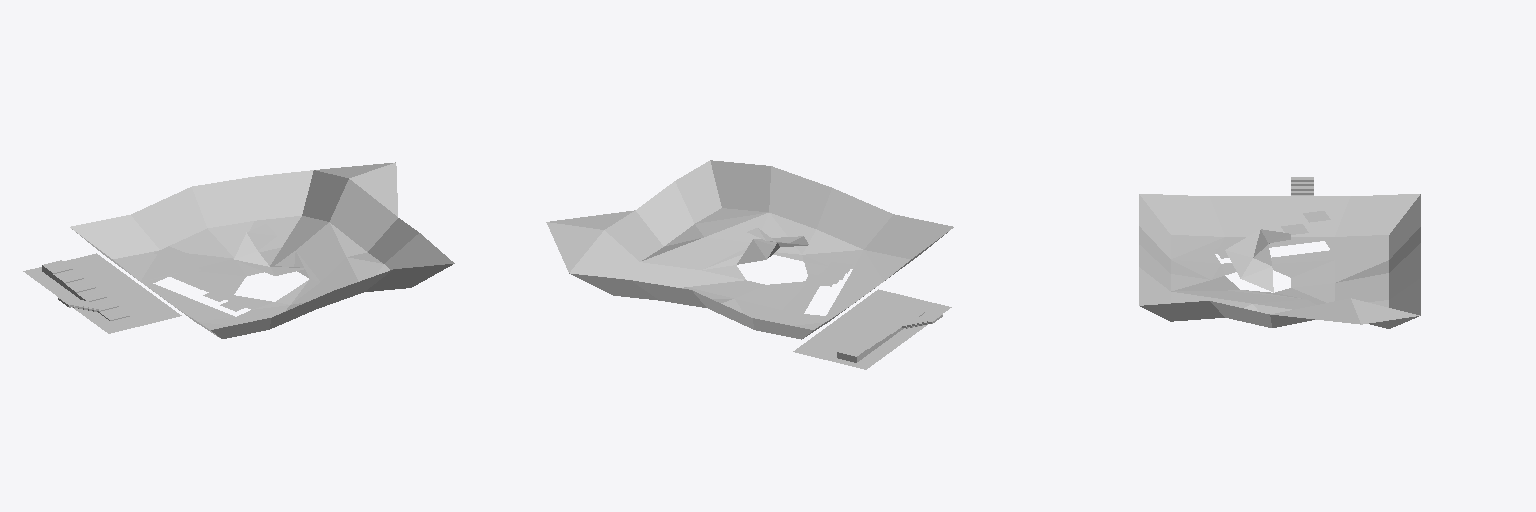
The model's file is texplanedense.obj.
3 views of the same model, side by side, from view 1: azimuth 30°, elevation 25°; view 2: azimuth 150°, elevation 25°; view 3: azimuth 270°, elevation 25° (orthographic).
Visible parts, largest first — view 1: Plane.001_Plane.002; view 2: Plane.001_Plane.002; view 3: Plane.001_Plane.002.
Part boxes in pixels (left/top/right/bottom): Plane.001_Plane.002: left=23, top=162, right=454, bottom=338; Plane.001_Plane.002: left=546, top=160, right=953, bottom=369; Plane.001_Plane.002: left=1139, top=177, right=1420, bottom=328.
Bounding box in the file's own units: 146 × 18.73 × 98.87.